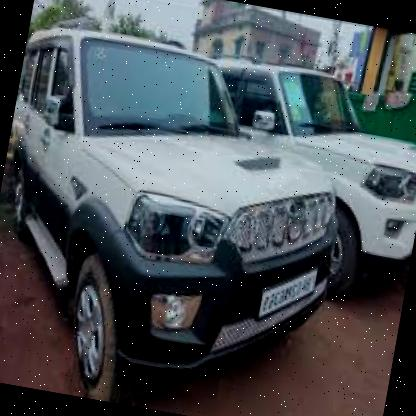car: (0, 7, 379, 416), (172, 43, 416, 284)
